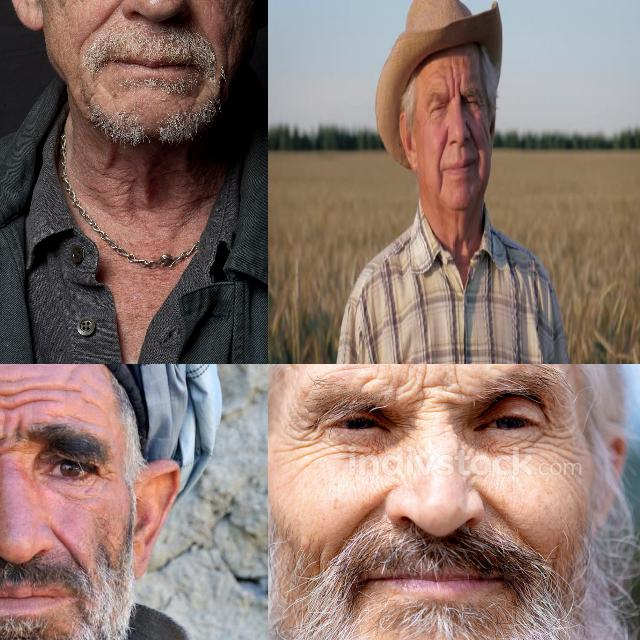crows_feet: (290, 417, 322, 461), (544, 416, 574, 452), (95, 462, 116, 490)
forehead: (34, 378, 80, 396), (0, 395, 36, 411), (0, 372, 25, 390), (426, 64, 442, 80)
frown_line: (414, 375, 460, 411), (13, 416, 27, 448), (448, 70, 457, 94), (0, 429, 8, 456), (455, 75, 462, 105), (446, 78, 452, 102)
gummy_smile: (479, 491, 518, 533), (348, 492, 384, 530), (92, 0, 120, 37), (52, 528, 82, 562), (436, 135, 448, 164), (467, 121, 477, 150)
sad_smile: (437, 172, 445, 192)
